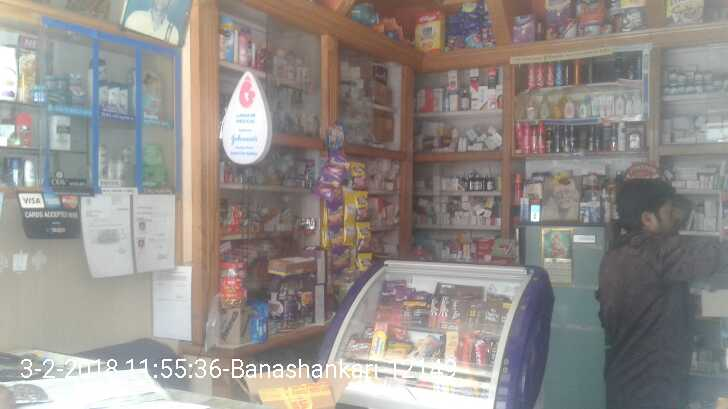beauty: (51, 114, 70, 151), (109, 82, 129, 112), (98, 140, 108, 189)
pharmacy: (139, 71, 163, 115), (137, 160, 170, 187), (138, 144, 162, 165)
